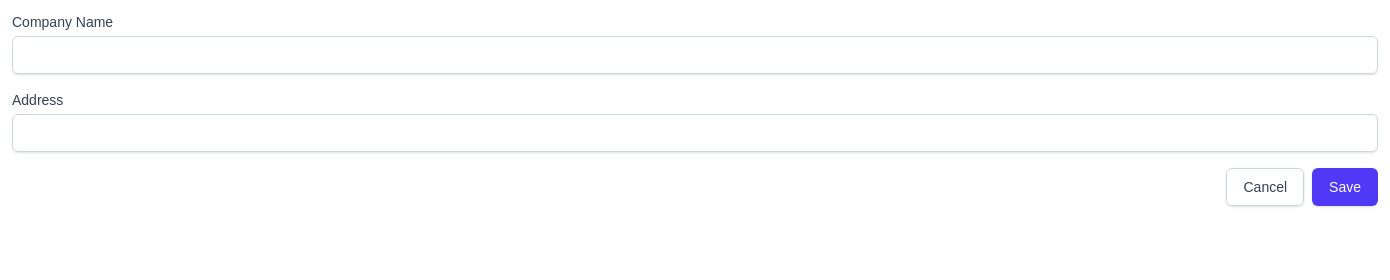
Test: ProfileForm › shows validation errors for empty fields
What coordinates should you click on to do the following:
click the button "Save"
I would click on:
 (1345, 187)
Its box is [1312, 168, 1378, 206].
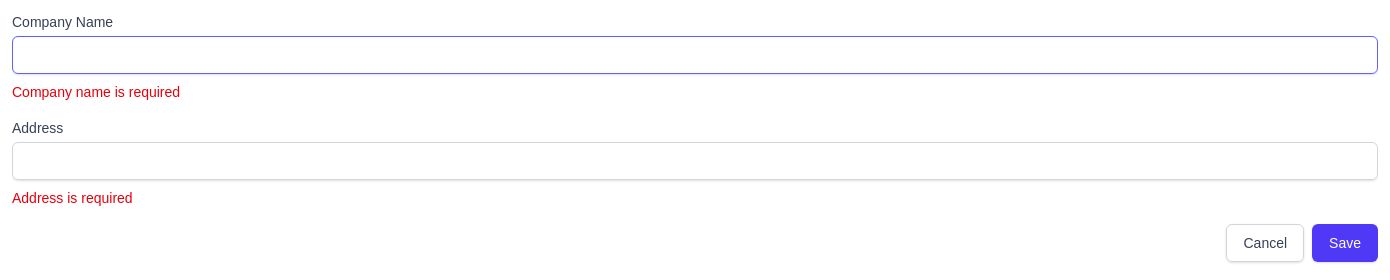
Now the text "Company name is required" is shown, box [12, 84, 180, 100]
Now the text "Address is required" is shown, box [12, 190, 133, 206]
